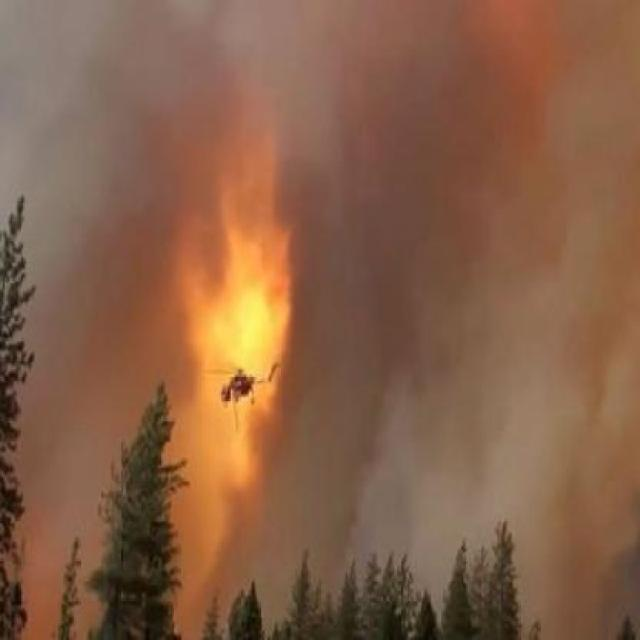Fire: (168, 111, 291, 627)
Smoke: (283, 196, 639, 558), (344, 54, 638, 203), (88, 3, 246, 142), (33, 135, 192, 231), (255, 3, 456, 59), (518, 556, 638, 638)
